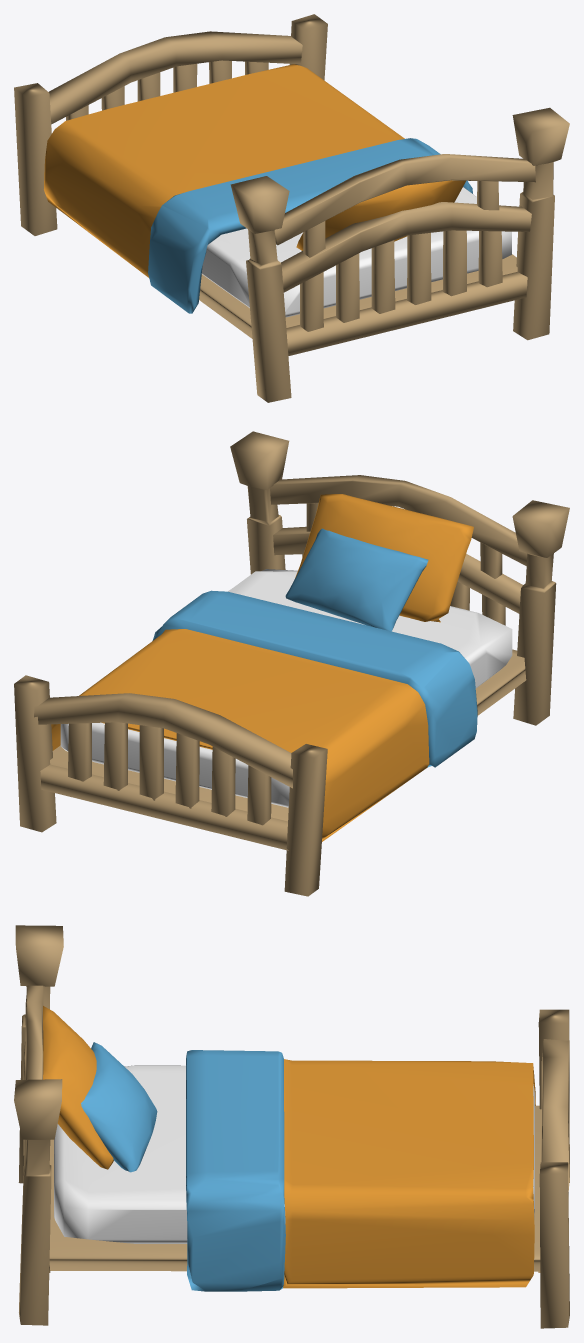
File: Bed_LOD2.fbx
The picture shows the model from 3 angles, top to bottom: view 1: azimuth 30°, elevation 25°; view 2: azimuth 150°, elevation 25°; view 3: azimuth 270°, elevation 25°; orthographic projection. The views are drawn at different scales.
Visible parts, largest first — view 1: Bed_frame_003; view 2: Bed_frame_003; view 3: Bed_frame_003.
Boxes of the visible parts, x1,y1,x2,y2 form: Bed_frame_003: (14, 14, 569, 402); Bed_frame_003: (14, 431, 569, 896); Bed_frame_003: (14, 925, 569, 1328).
Size of the model in its own units: 368 by 234 by 495.
